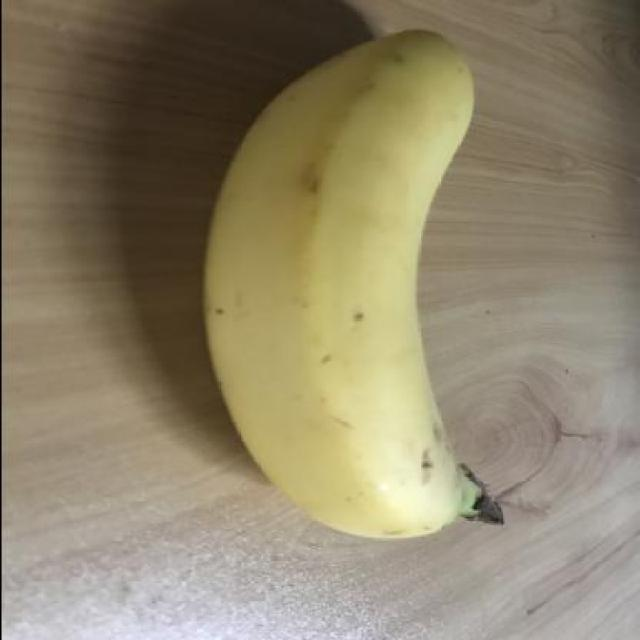Banana: (192, 28, 514, 550)
